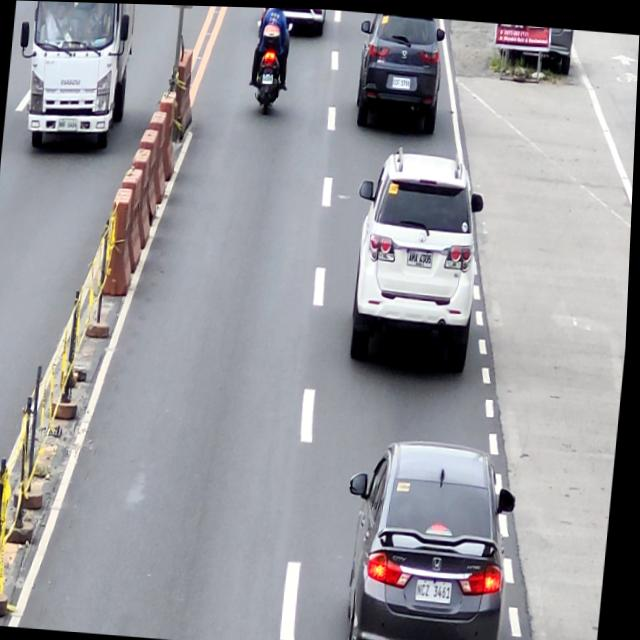Car: (338, 432, 522, 640), (342, 144, 491, 371), (353, 10, 449, 135)
License-Plate: (420, 575, 459, 602), (408, 246, 435, 265), (391, 75, 413, 88), (262, 71, 275, 85)
Motorcycle: (248, 13, 293, 115)
